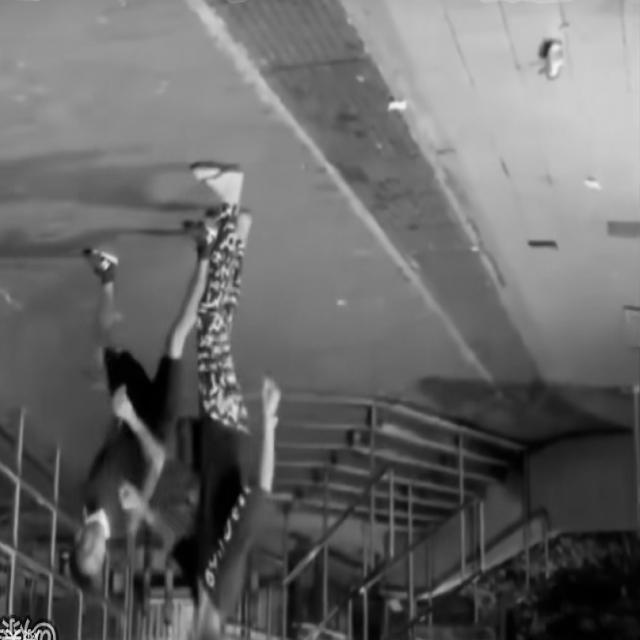fight: (72, 153, 277, 628)
